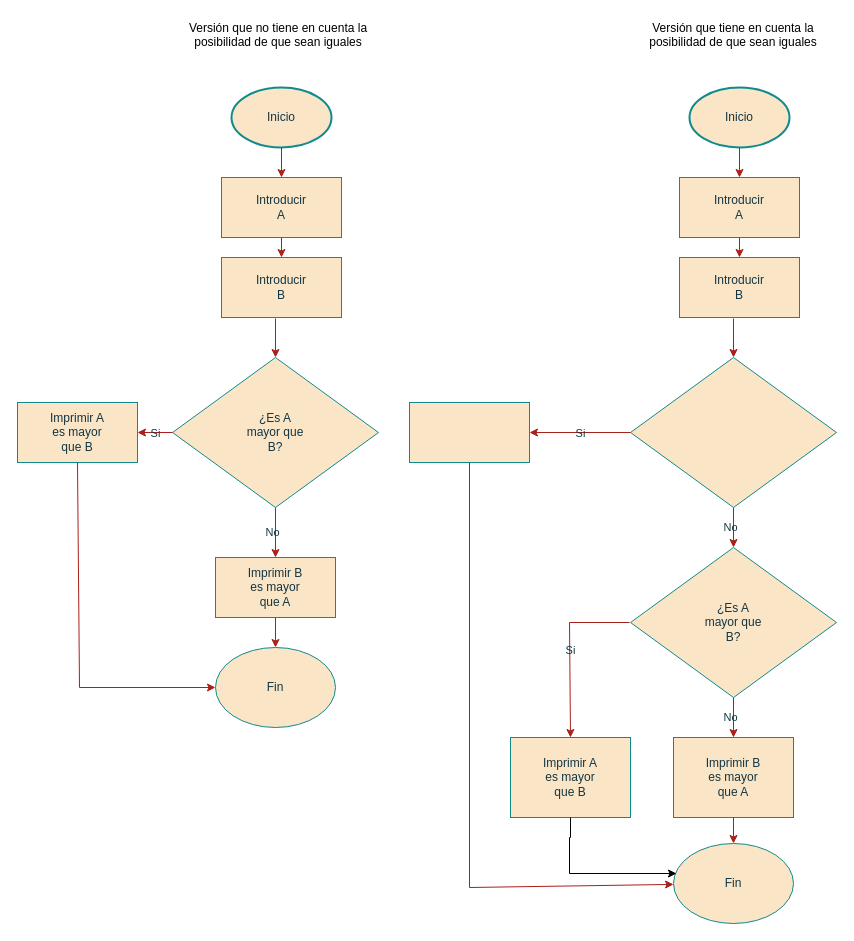
Image size: 854x941. Some labels were removed from this diagram. Each missing label, with the centre of its shape:
Imprimir A y B son iguales: the point at 469,432
¿Son A y B iguales?: the point at 733,432
